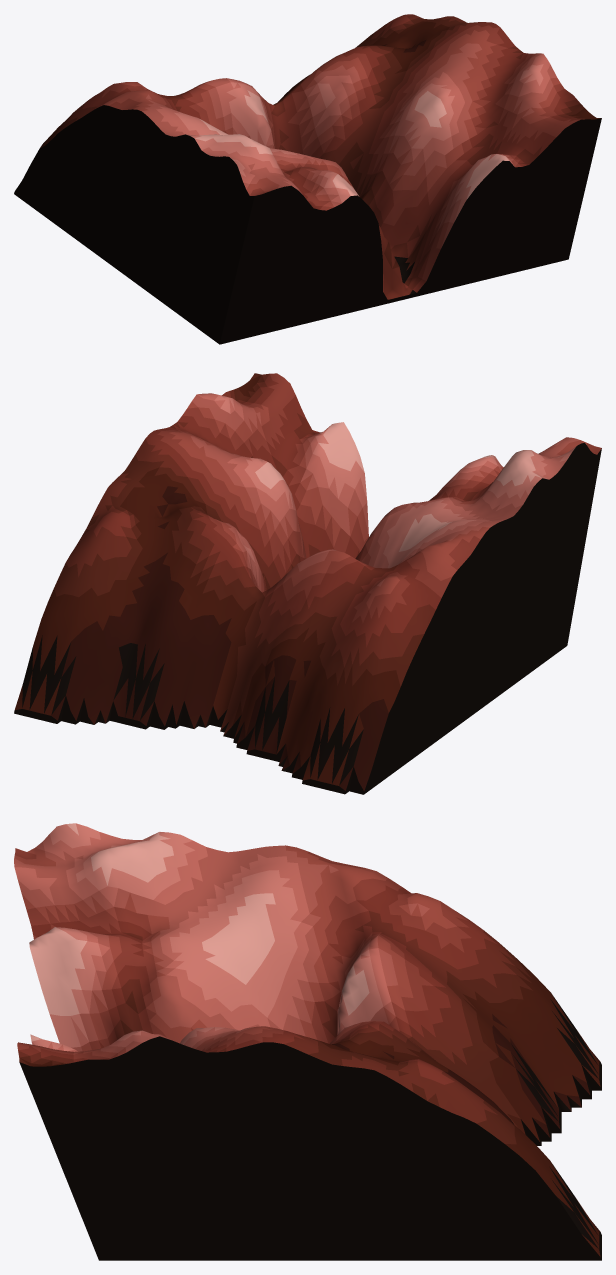
The model's file is brain_top_m.glb.
3 views of the same model, one above another, from view 1: azimuth 30°, elevation 25°; view 2: azimuth 150°, elevation 25°; view 3: azimuth 270°, elevation 25° (orthographic). The views are drawn at different scales.
Visible parts, largest first — view 1: brain_top_m; view 2: brain_top_m; view 3: brain_top_m.
Part boxes in pixels (left/top/right/bottom): brain_top_m: left=14, top=14, right=601, bottom=344; brain_top_m: left=14, top=373, right=601, bottom=794; brain_top_m: left=14, top=823, right=601, bottom=1260.
Bounding box in the file's own units: 24 × 12.81 × 29.23.
